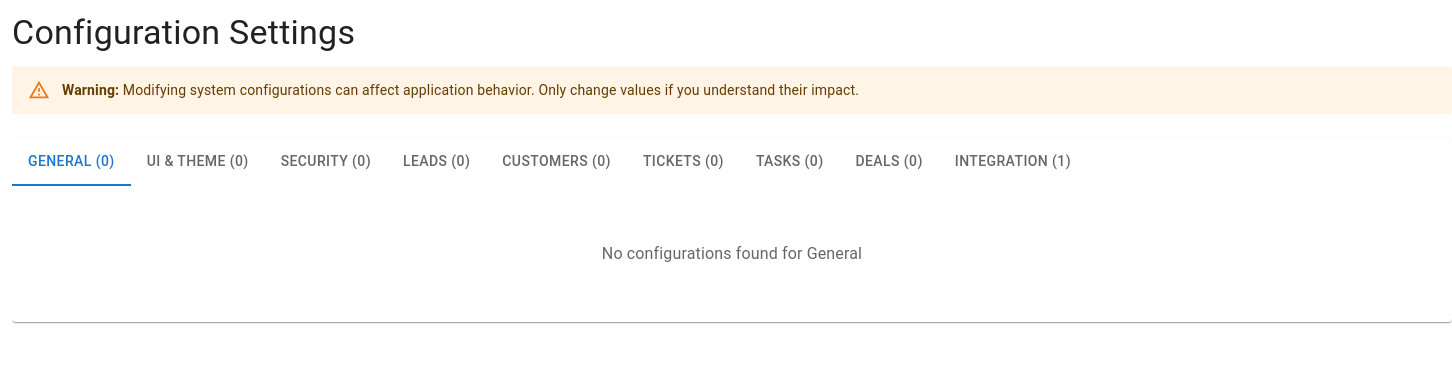
Test: ConfigurationSettings › marks an unset sensitive row as not configured
The image size is (1452, 377).
Click the tab "Integration (1)" at [1013, 162], box [939,138,1087,186]
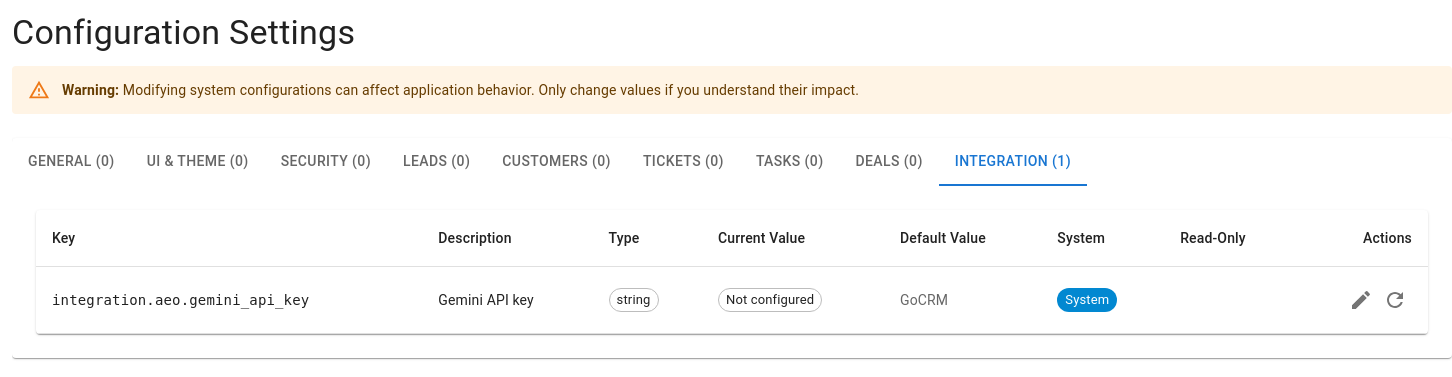
Now the element with test id "sensitive-chip-integration.aeo.gemini_api_key" reads "Not configured", box [726,292,814,307]
